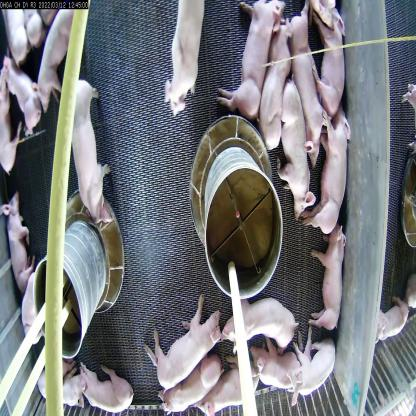Pig: (144, 290, 224, 389), (70, 72, 120, 222), (285, 0, 329, 168), (300, 101, 356, 232), (219, 0, 280, 120), (160, 0, 208, 124), (29, 2, 81, 108), (278, 78, 316, 222), (247, 328, 321, 398), (278, 332, 340, 413), (306, 219, 347, 337), (224, 299, 302, 360), (309, 0, 346, 126), (259, 11, 291, 149), (155, 352, 222, 416), (0, 188, 38, 298), (195, 354, 260, 416), (74, 356, 137, 416), (375, 295, 410, 351)
